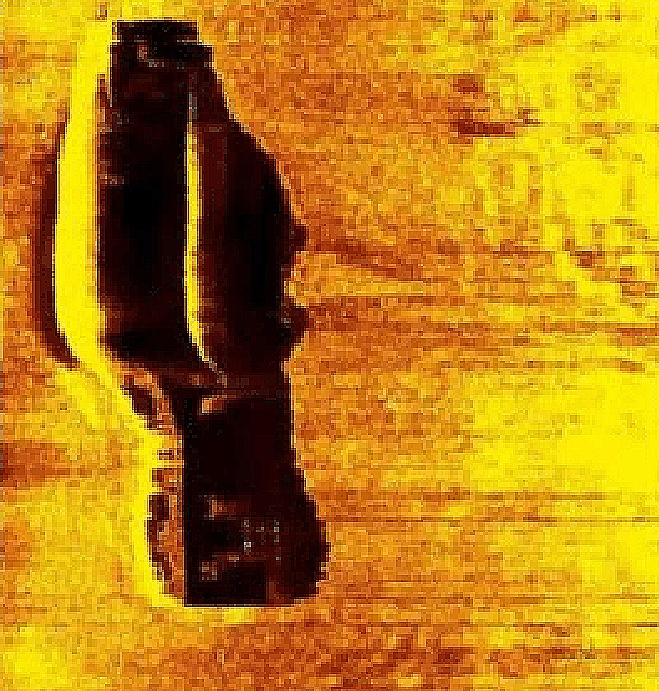ship: (49, 12, 295, 613)
